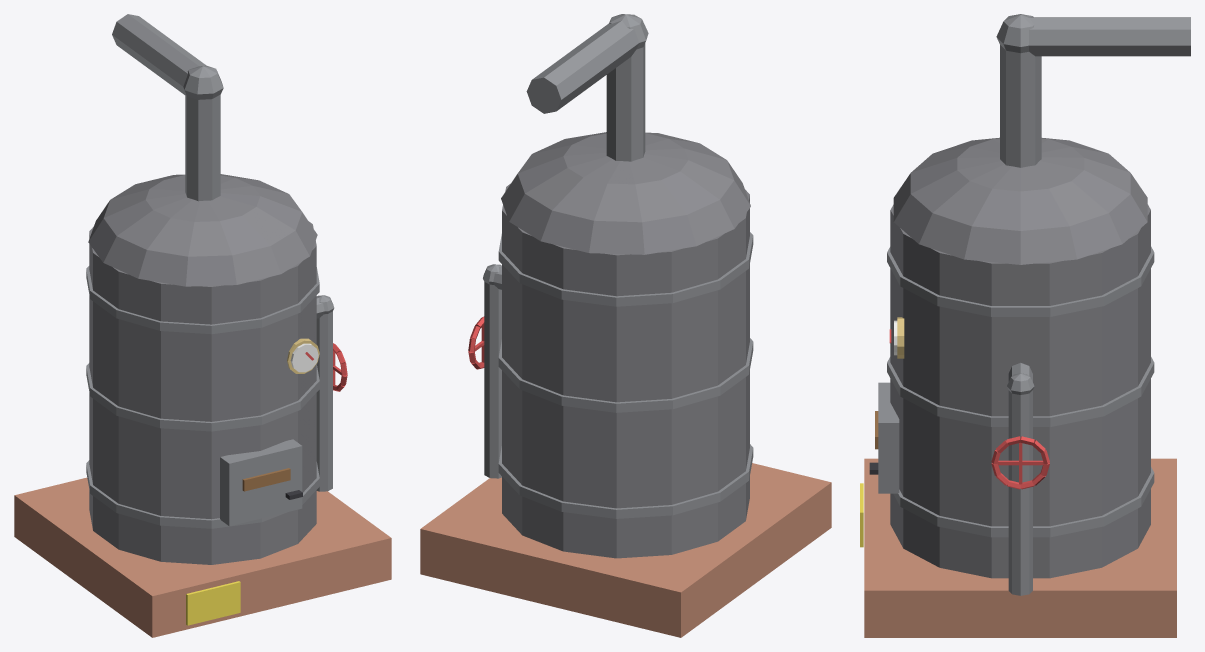
The model's file is HJ_Caldera.fbx.
The picture shows the model from 3 angles, left to right: view 1: azimuth 30°, elevation 25°; view 2: azimuth 150°, elevation 25°; view 3: azimuth 270°, elevation 25°; orthographic projection. The views are drawn at different scales.
Parts seen in each view (by area): view 1: HJ_Caldera; view 2: HJ_Caldera; view 3: HJ_Caldera.
Part boxes in pixels (<box>): HJ_Caldera: <box>14,14,391,637</box>; HJ_Caldera: <box>420,14,831,637</box>; HJ_Caldera: <box>860,14,1190,637</box>.
Size of the model in its own units: 1.9 by 3.54 by 1.91.
